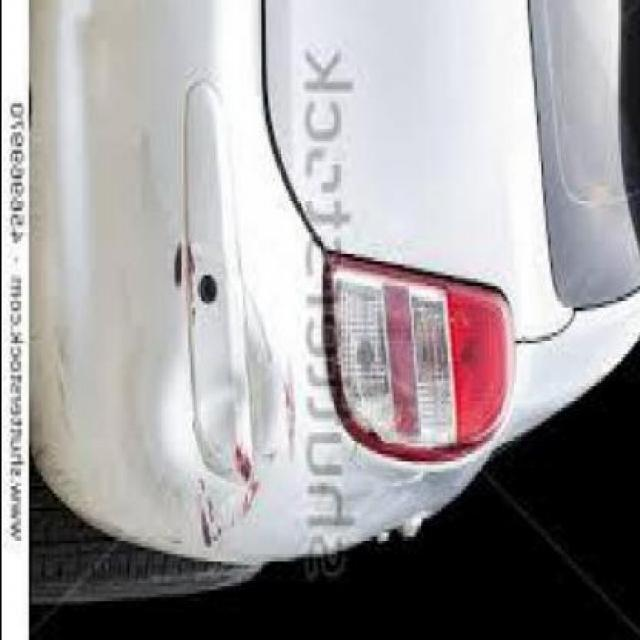damage: (143, 206, 296, 541)
